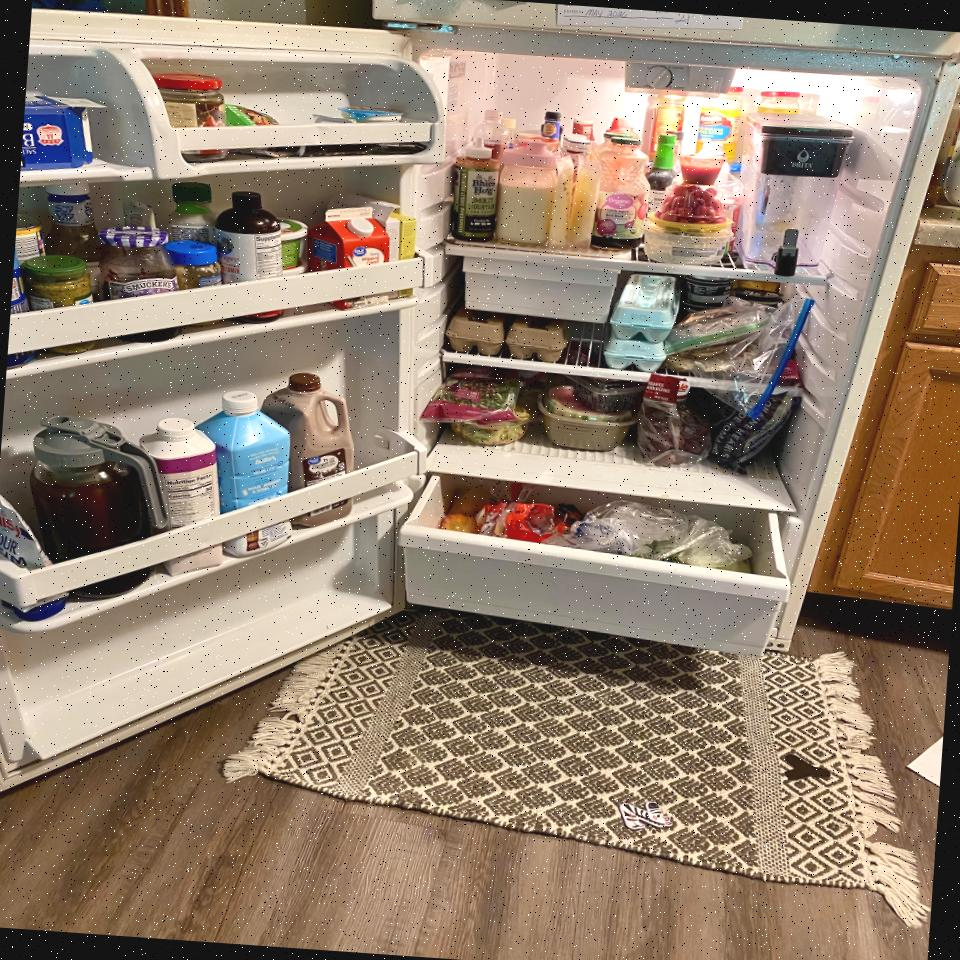Huevos: (610, 272, 682, 342), (506, 323, 567, 364), (445, 315, 506, 355), (602, 337, 668, 373)
Leche: (187, 387, 303, 561)
Mantequilla: (21, 87, 107, 175)
Tomate: (654, 182, 732, 226)
